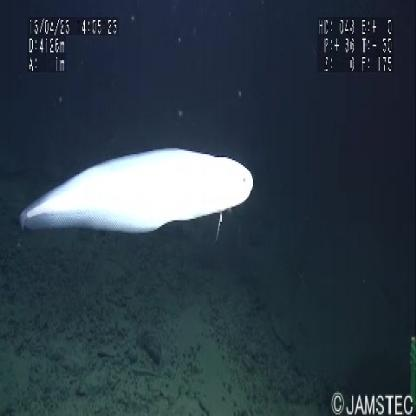Bio: (16, 140, 259, 247)
